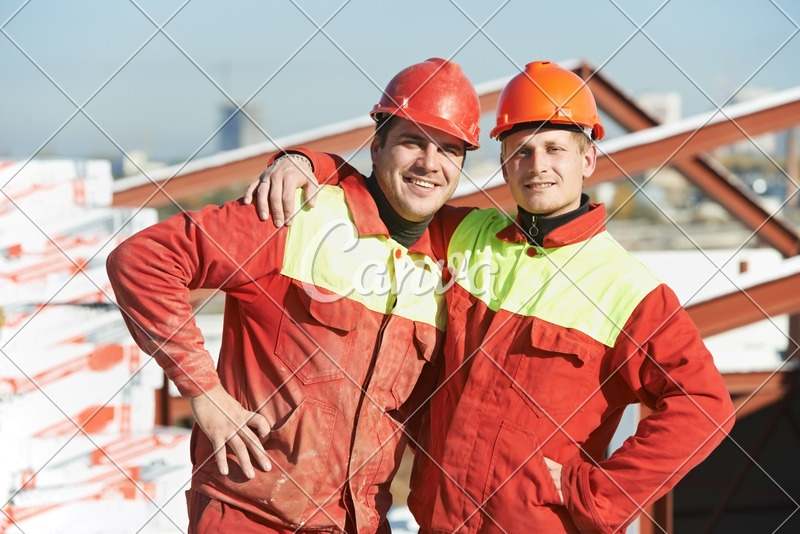red: (369, 58, 479, 218), (493, 60, 602, 216)
